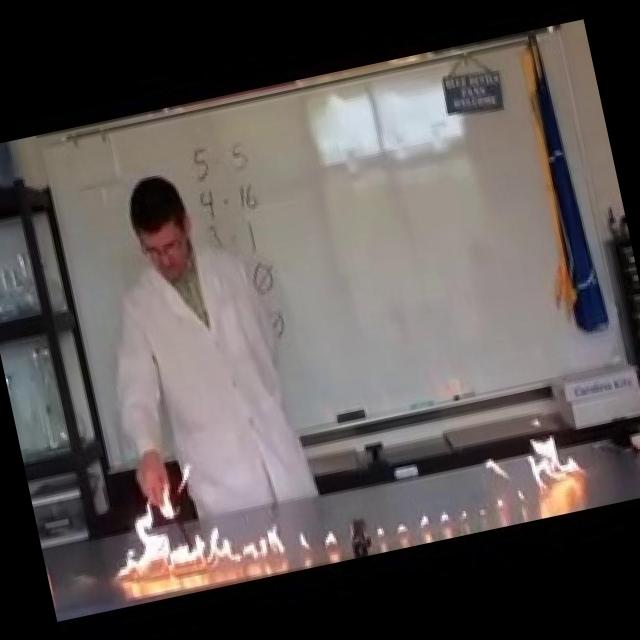Fire: (95, 468, 278, 590), (517, 422, 589, 496)
